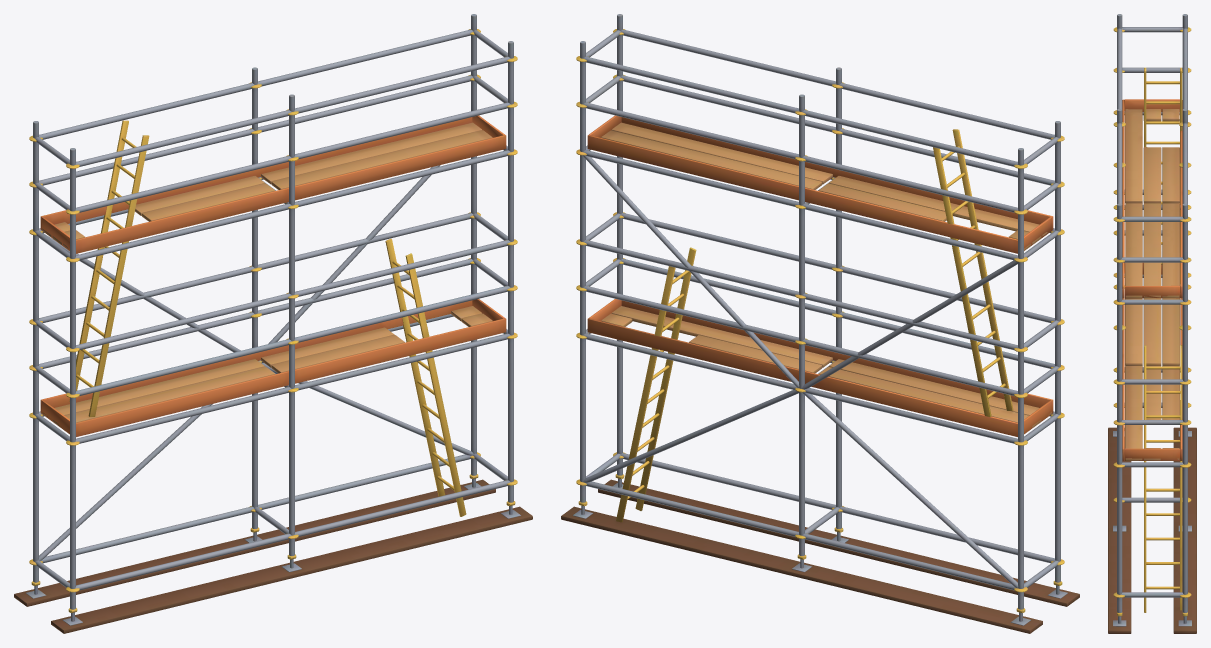
The model's file is prop_scaffolding.glb.
3 views of the same model, side by side, from view 1: azimuth 30°, elevation 25°; view 2: azimuth 150°, elevation 25°; view 3: azimuth 270°, elevation 25° (orthographic). The views are drawn at different scales.
Visible parts, largest first — view 1: scaffolding_body; view 2: scaffolding_body; view 3: scaffolding_body.
Boxes of the visible parts, x1,y1,x2,y2 form: scaffolding_body: [14, 14, 532, 633]; scaffolding_body: [561, 14, 1079, 633]; scaffolding_body: [1108, 14, 1196, 633].
Bounding box in the file's own units: 5.36 × 5.2 × 0.99.
1 material, 1 textured.
